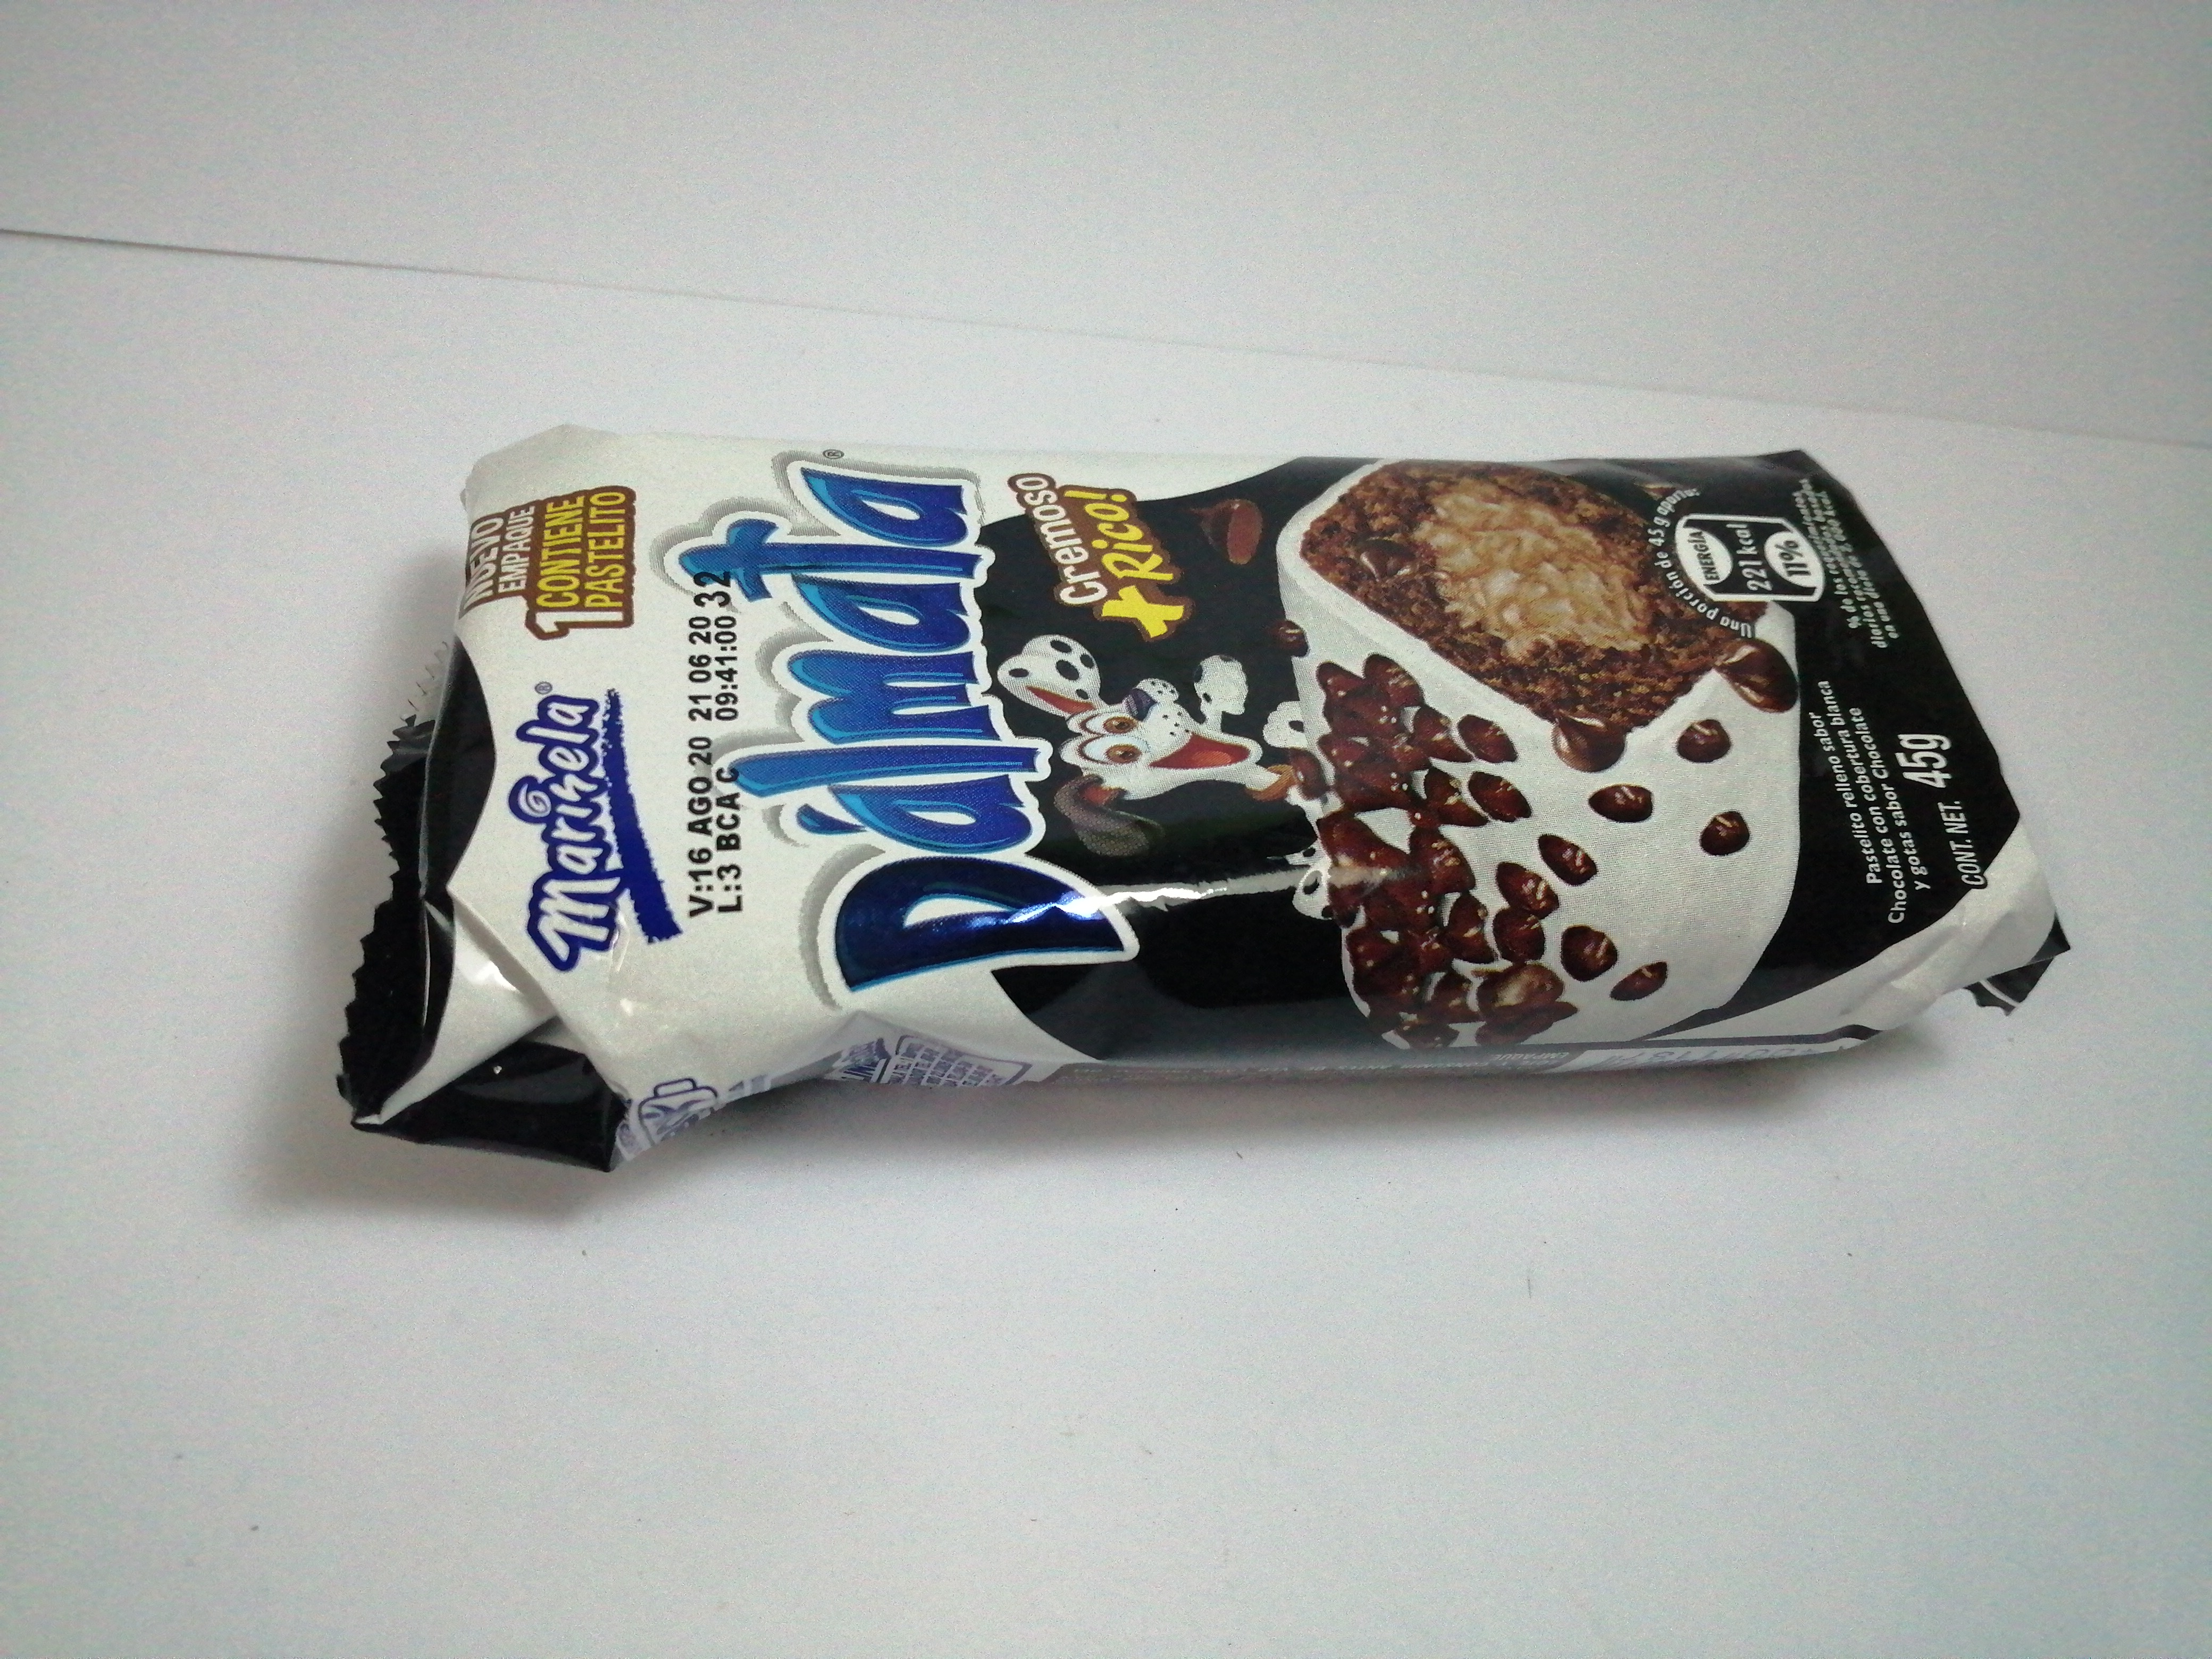dalmata: (334, 401, 2085, 1180)
